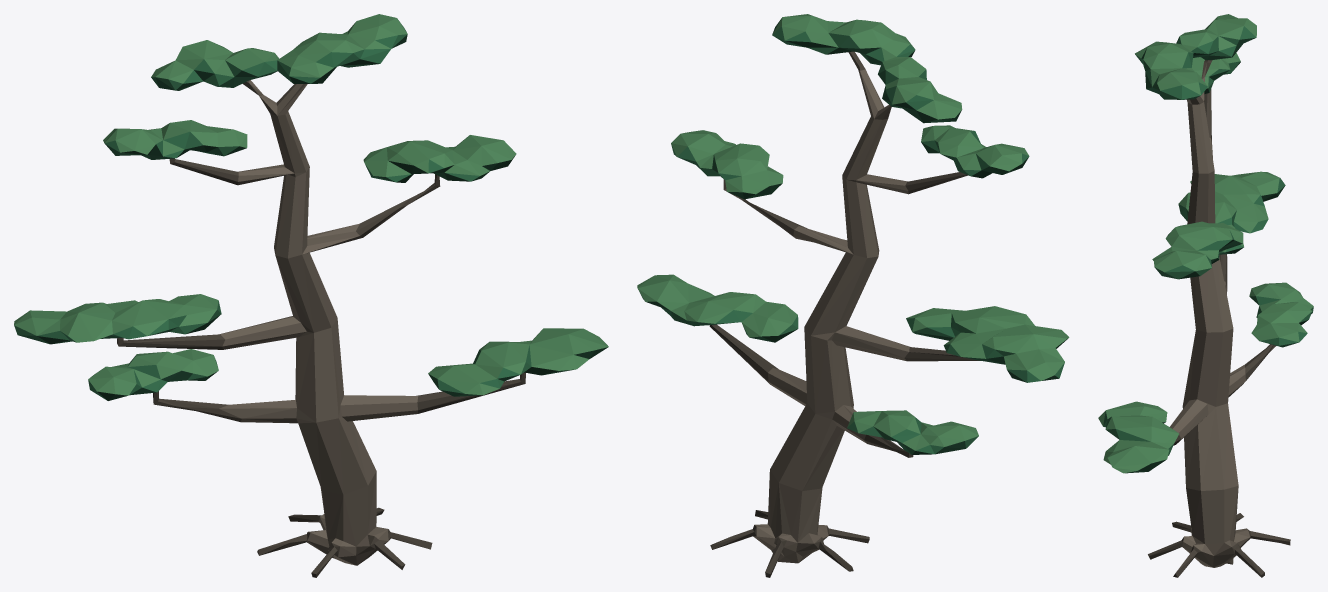
The model's file is ancient-pine-v1-lod2.glb.
3 views of the same model, side by side, from view 1: azimuth 30°, elevation 25°; view 2: azimuth 150°, elevation 25°; view 3: azimuth 270°, elevation 25° (orthographic). The views are drawn at different scales.
Parts seen in each view (by area): view 1: n12.006, n8.006, n9.006, n11.006, n10.006; view 2: n12.006, n8.006, n11.006, n9.006, n10.006; view 3: n8.006, n12.006, n11.006, n9.006, n10.006.
Boxes of the visible parts, x1,y1,x2,y2 form: n12.006: (14,14,608,395); n8.006: (219,80,418,565); n9.006: (117,80,525,577); n11.006: (14,20,531,394); n10.006: (19,34,608,400); n12.006: (637,14,1069,450); n8.006: (753,69,909,563); n11.006: (671,18,1064,454); n9.006: (709,51,980,577); n10.006: (639,36,1068,454); n8.006: (1170,62,1250,567); n12.006: (1098,14,1313,473); n11.006: (1103,26,1313,454); n9.006: (1148,60,1290,577); n10.006: (1105,38,1312,473).
Size of the model in its own units: 5.26 by 5.43 by 2.14.
